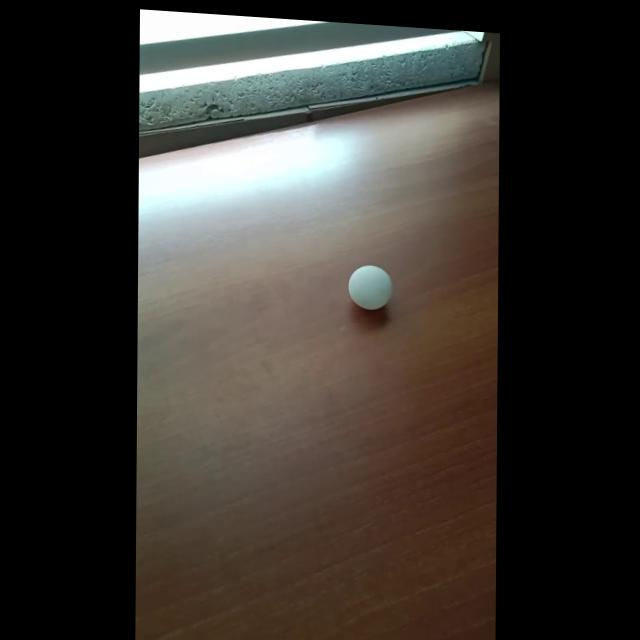white ball: (348, 262, 392, 311)
